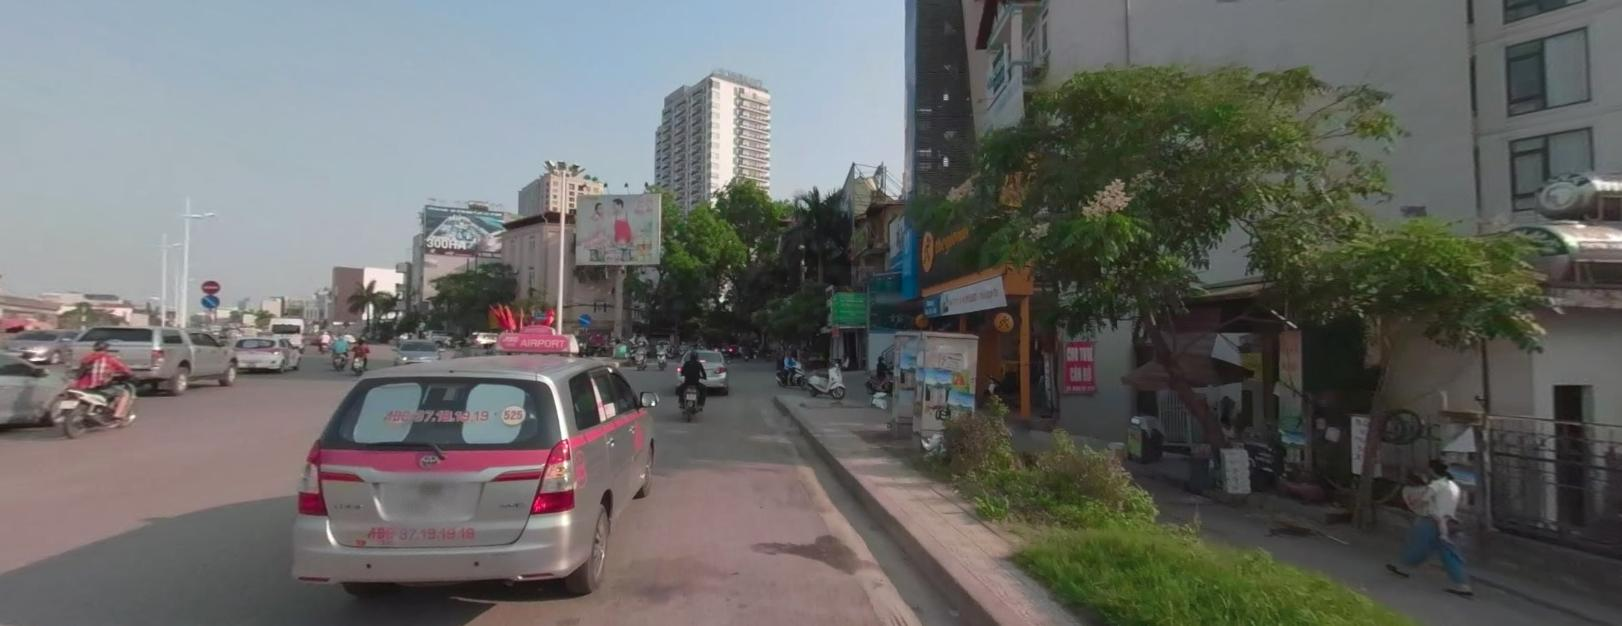Cam nguoc chieu: (200, 278, 219, 291)
Hieu lenh: (200, 293, 220, 306), (577, 311, 590, 324)
